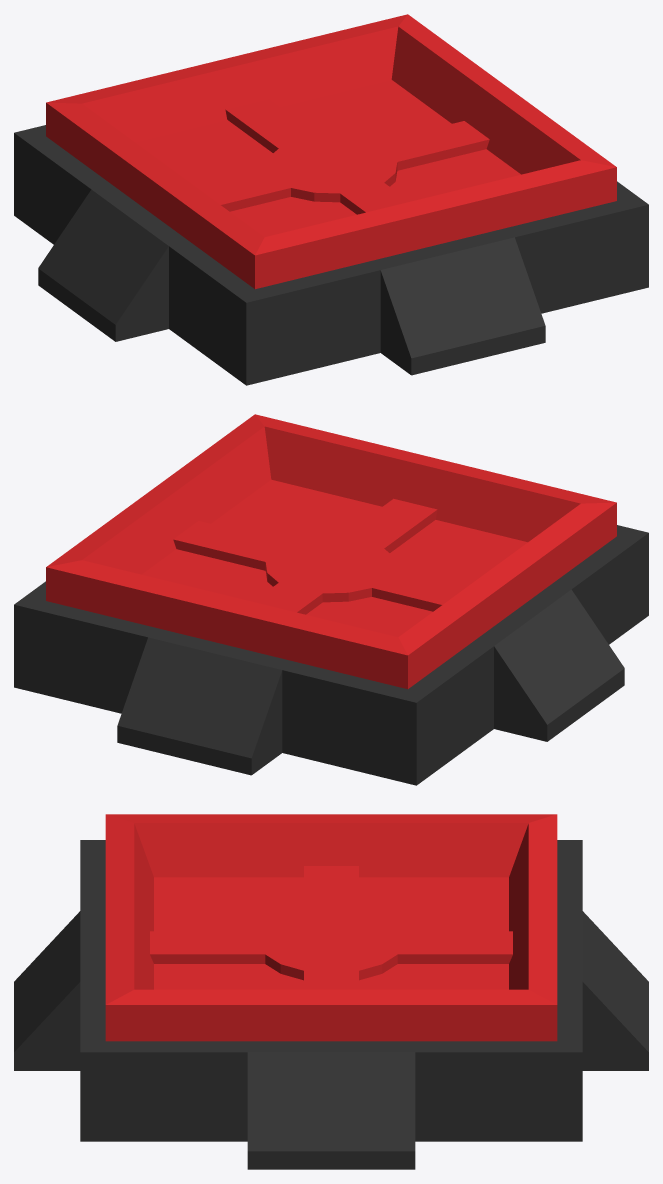
File: CubeButton.fbx
The picture shows the model from 3 angles, top to bottom: view 1: azimuth 30°, elevation 25°; view 2: azimuth 150°, elevation 25°; view 3: azimuth 270°, elevation 25°; orthographic projection. The views are drawn at different scales.
Parts seen in each view (by area): view 1: Button, Body; view 2: Button, Body; view 3: Button, Body.
Boxes of the visible parts, x1=… form: Button: x1=46, y1=14, x2=616, y2=289; Body: x1=14, y1=125, x2=648, y2=385; Button: x1=46, y1=414, x2=616, y2=689; Body: x1=14, y1=525, x2=648, y2=785; Button: x1=105, y1=814, x2=557, y2=1041; Body: x1=14, y1=840, x2=648, y2=1169.
Size of the model in its own units: 177 by 39.77 by 177.
